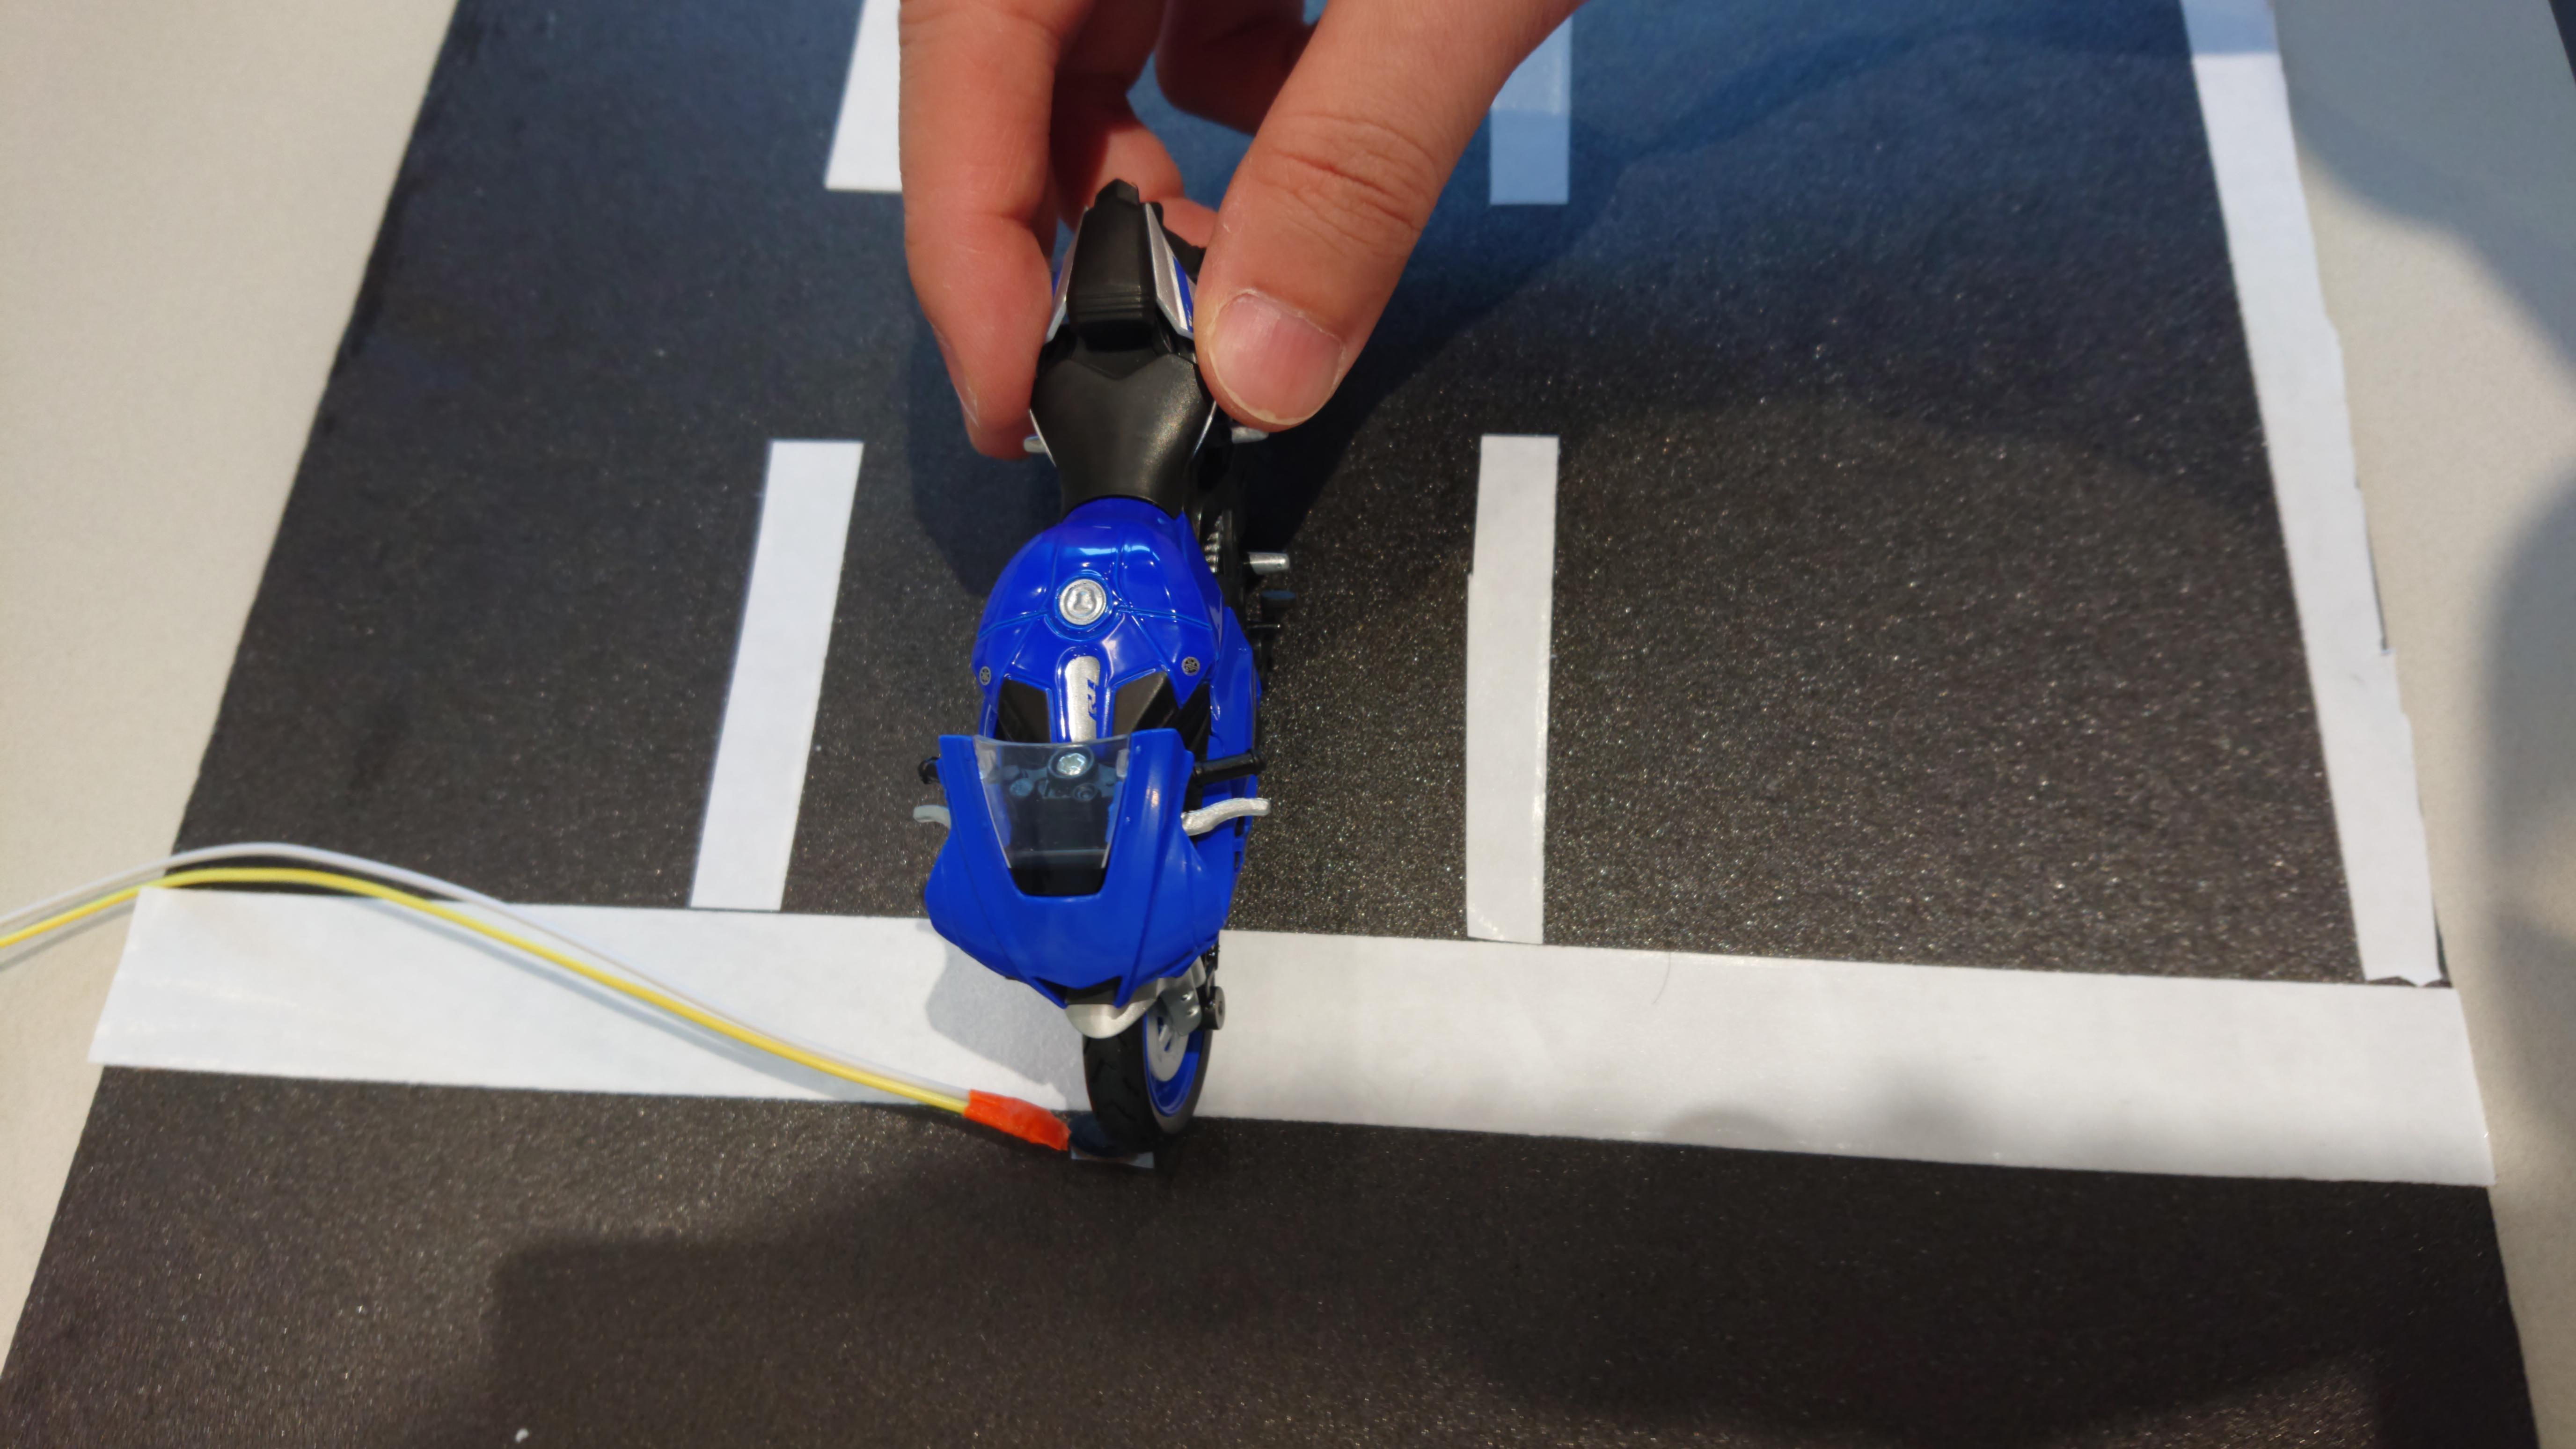Motorcycle: (903, 161, 1306, 1156)
